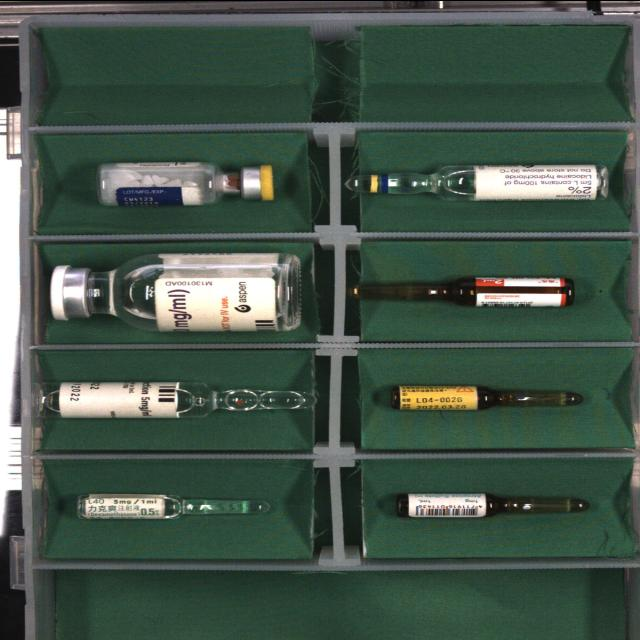Vials: (50, 251, 301, 330), (99, 161, 274, 204)
